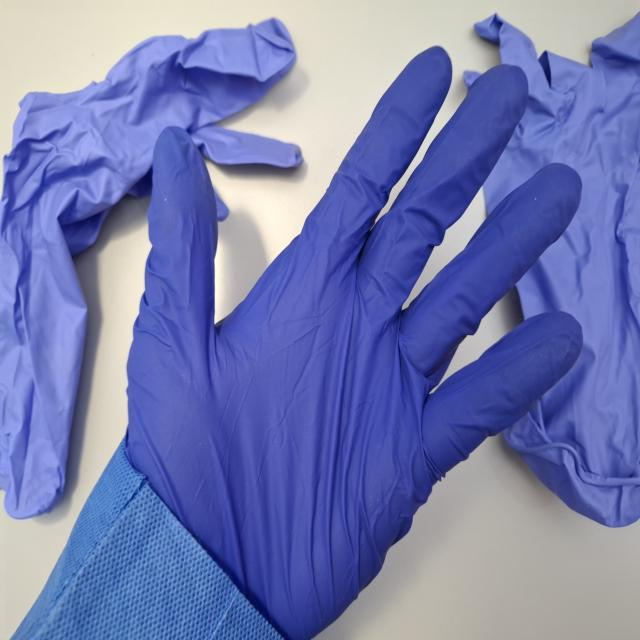glove_on: (119, 38, 587, 640)
